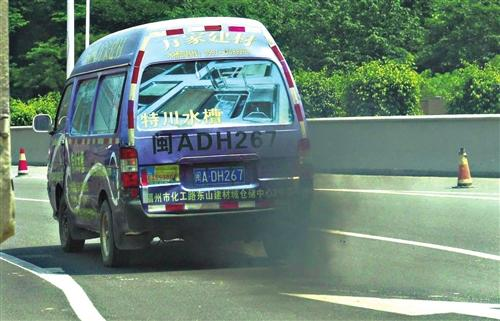smoke: (205, 175, 389, 284)
